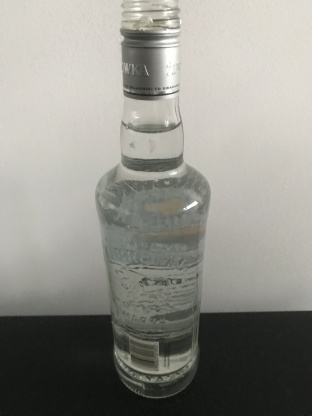nakretka: (117, 0, 183, 101)
